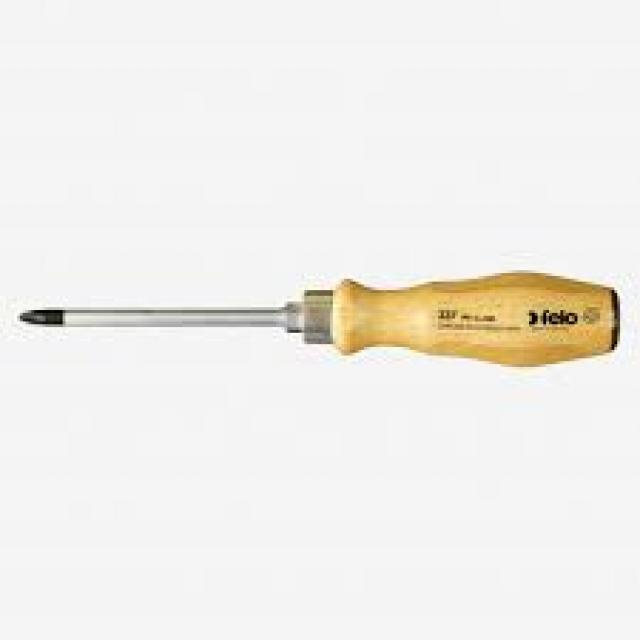screwdriver: (16, 258, 634, 374)
